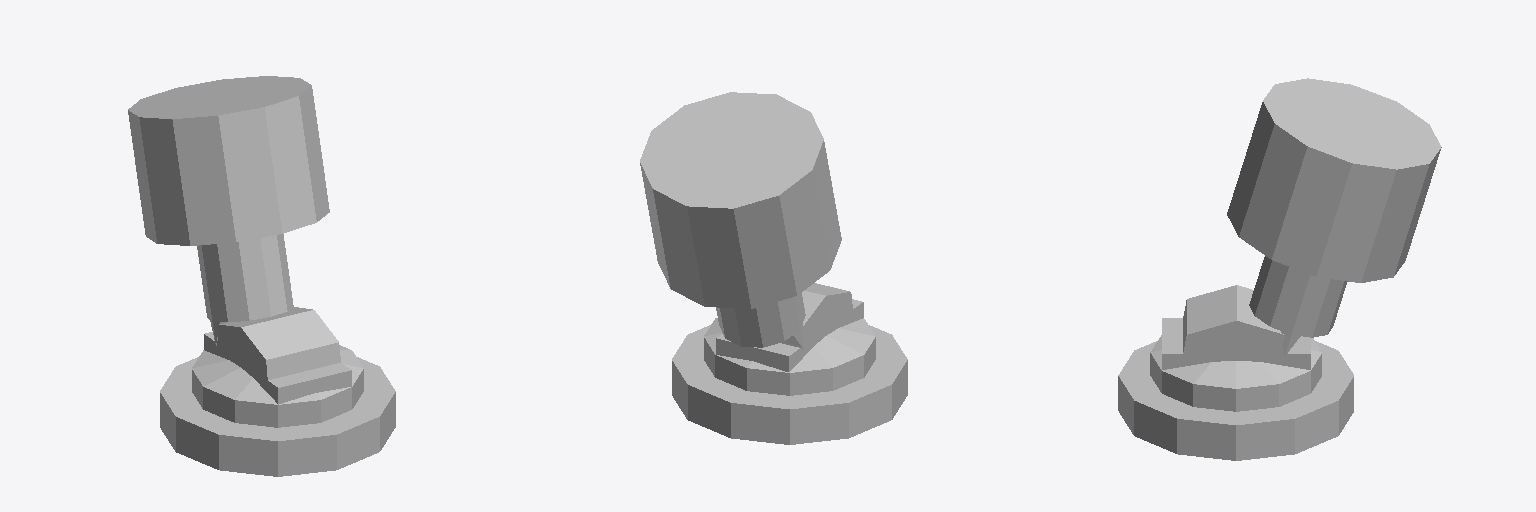
The model's file is Sw_Batt - Off.obj.
3 views of the same model, side by side, from view 1: azimuth 30°, elevation 25°; view 2: azimuth 150°, elevation 25°; view 3: azimuth 270°, elevation 25° (orthographic).
Parts seen in each view (by area): view 1: Switch, LockNut, SwitchBase, LockingTine, Slider; view 2: Switch, LockNut, SwitchBase, Slider, LockingTine; view 3: Switch, LockNut, SwitchBase, LockingTine, Slider.
Part boxes in pixels (bbox=[...]): Switch: bbox=[128, 76, 329, 345]; LockNut: bbox=[160, 357, 395, 476]; SwitchBase: bbox=[192, 345, 363, 427]; LockingTine: bbox=[217, 307, 340, 381]; Slider: bbox=[204, 332, 351, 404]; Switch: bbox=[640, 92, 841, 348]; LockNut: bbox=[672, 325, 907, 444]; SwitchBase: bbox=[704, 318, 875, 395]; Slider: bbox=[716, 299, 863, 371]; LockingTine: bbox=[781, 283, 852, 349]; Switch: bbox=[1227, 78, 1441, 356]; LockNut: bbox=[1118, 341, 1353, 460]; SwitchBase: bbox=[1150, 335, 1321, 411]; LockingTine: bbox=[1183, 285, 1287, 354]; Slider: bbox=[1162, 318, 1310, 369].
Bounding box in the file's own units: 6 × 8.7 × 8.22.